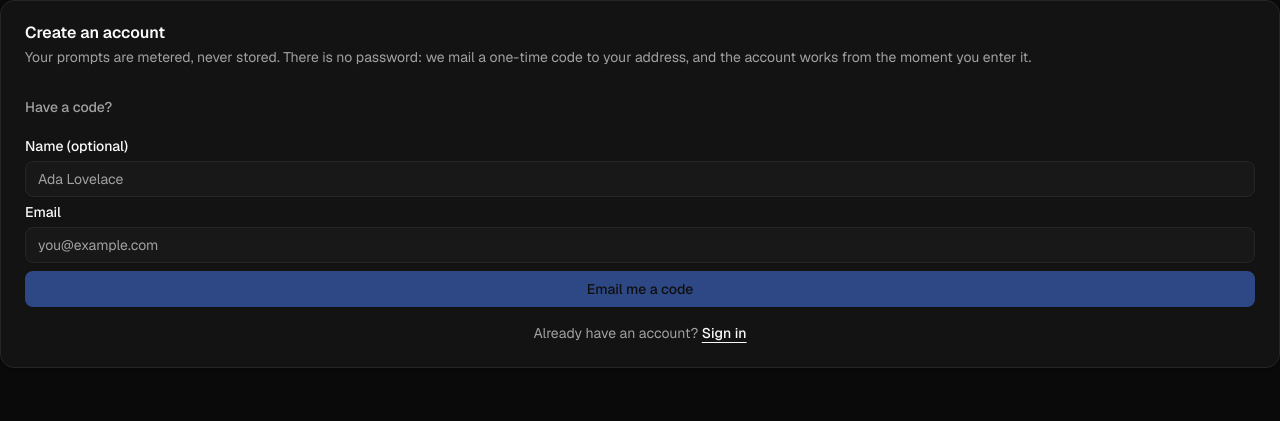
Scenario: SignUpForm › tells a throttled request for a code to wait
Type "dev@example.com" into the field labelled "Email" at (640, 245), box [25,227,1255,263]
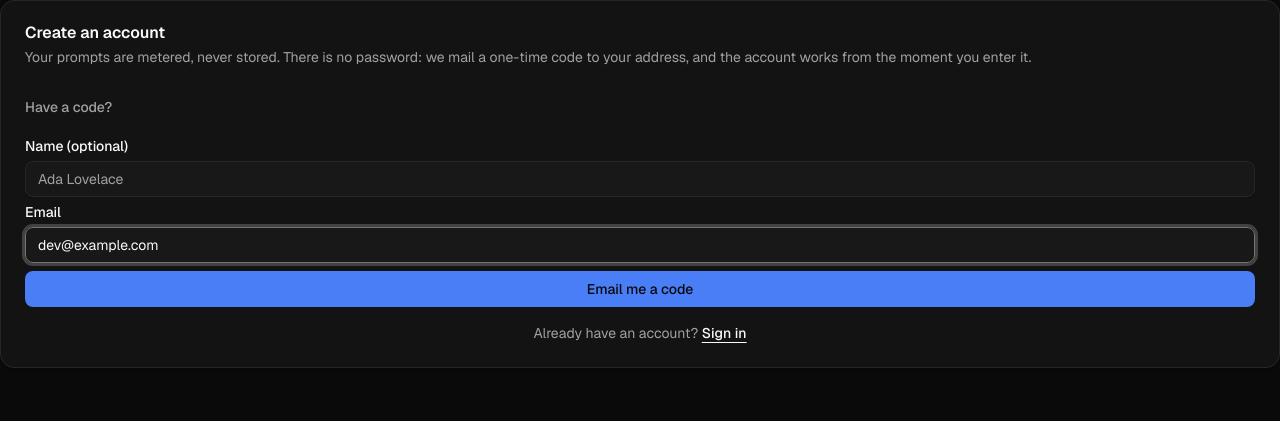
Click the button "Email me a code" at (640, 289), box [25,271,1255,307]
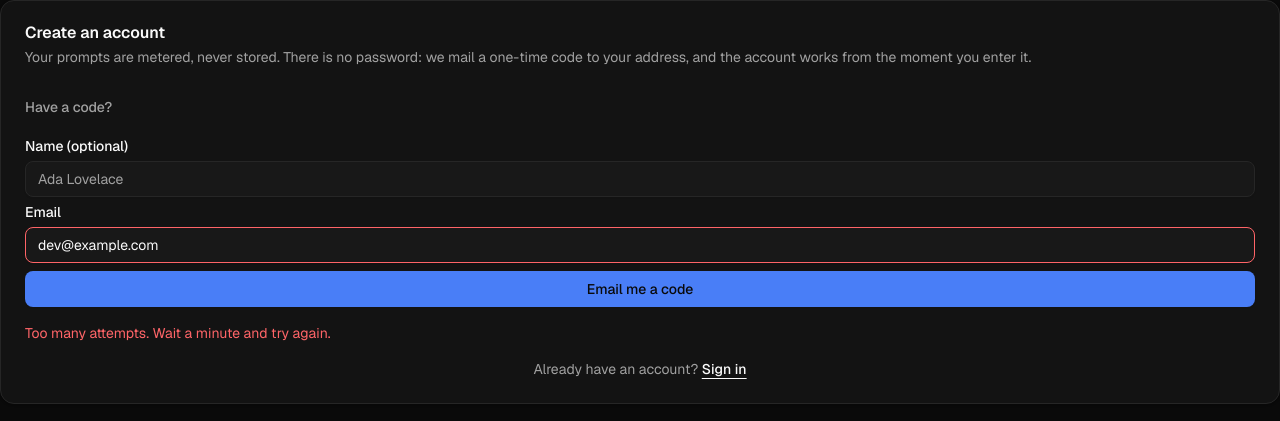
Expected: the message reads "Too many attempts. Wait a minute and try again.", [25,324,331,342]
